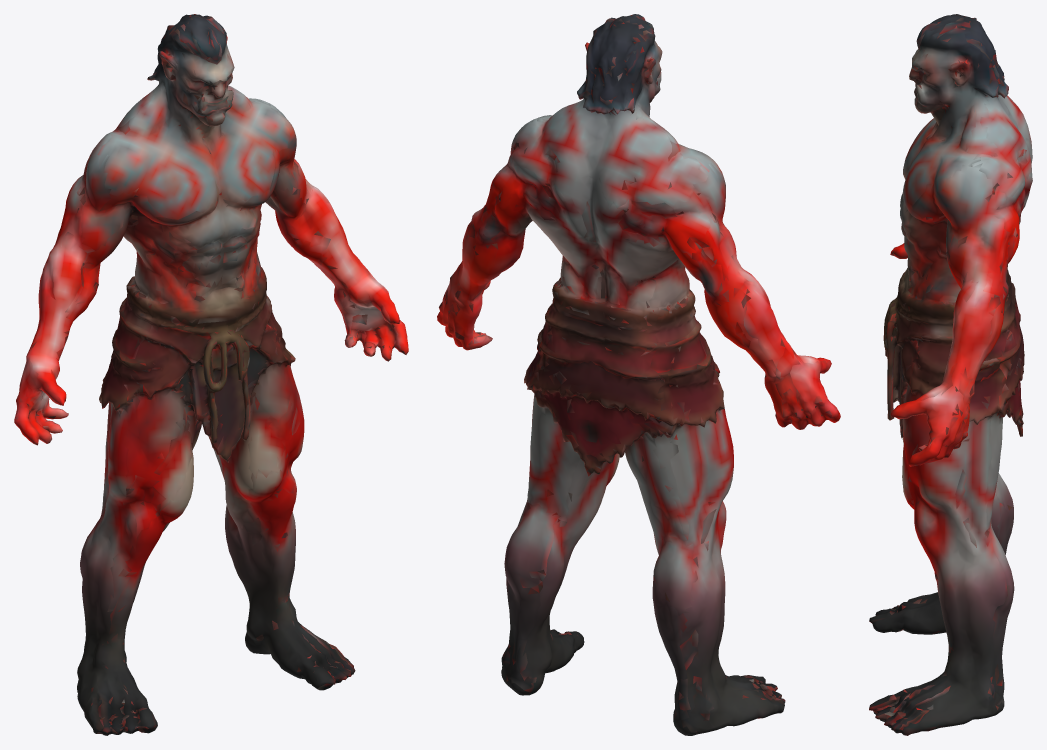
The model's file is Mishael_final.glb.
3 views of the same model, side by side, from view 1: azimuth 30°, elevation 25°; view 2: azimuth 150°, elevation 25°; view 3: azimuth 270°, elevation 25° (orthographic). The views are drawn at different scales.
Visible parts, largest first — view 1: Mesh1.0; view 2: Mesh1.0; view 3: Mesh1.0.
Part boxes in pixels (x1,y1,x2,y2): Mesh1.0: [14, 14, 408, 735]; Mesh1.0: [437, 14, 840, 735]; Mesh1.0: [869, 14, 1032, 735].
Size of the model in its own units: 1.04 by 1.7 by 0.3839.
1 material, 1 textured.
